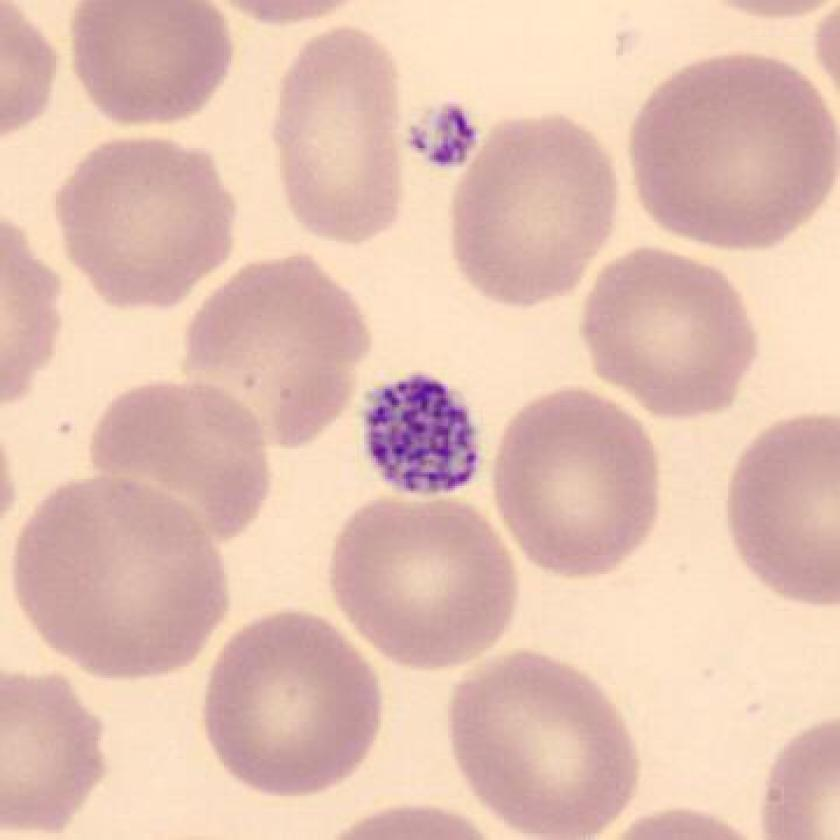platelets: (351, 362, 491, 503), (398, 89, 489, 184)
